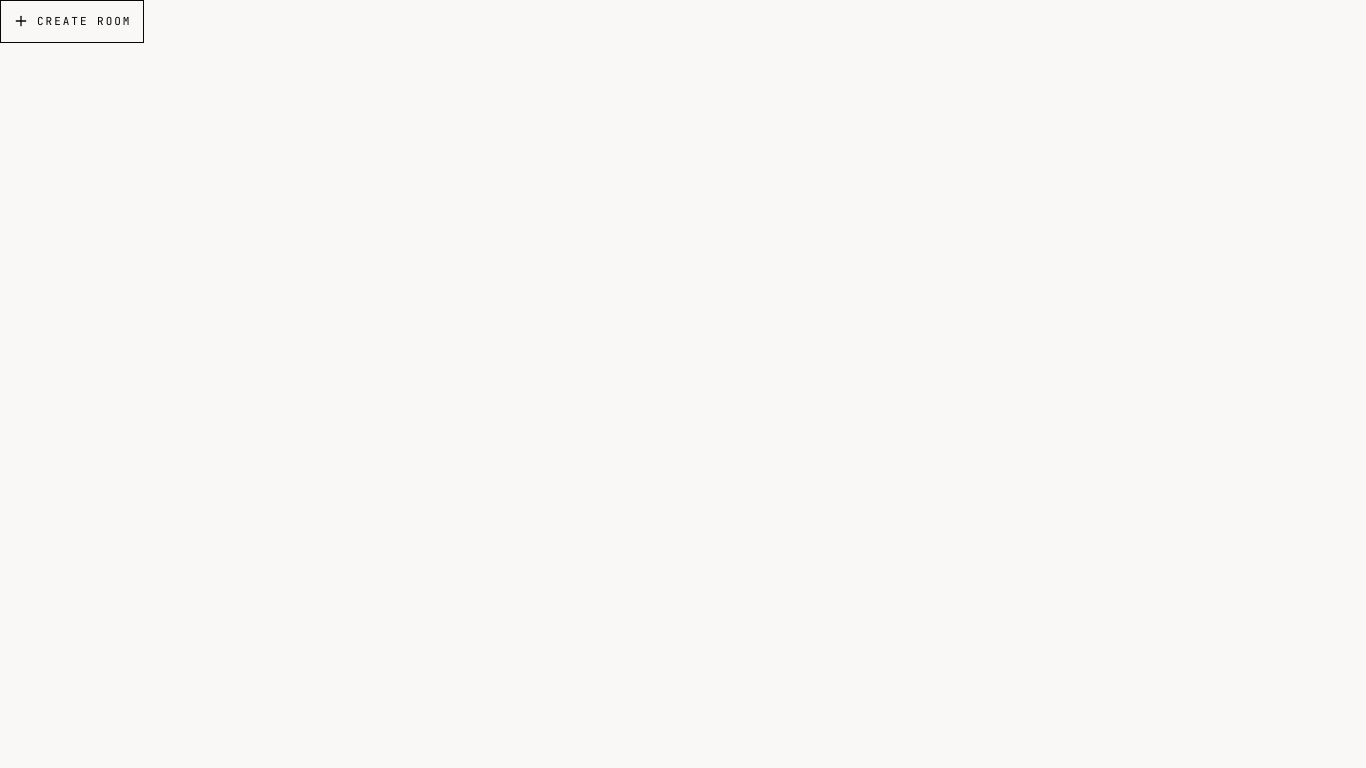
it: CreateRoomDialog › shows error on API failure
Click the button "Create Room" at (72, 21), box [0,0,144,42]
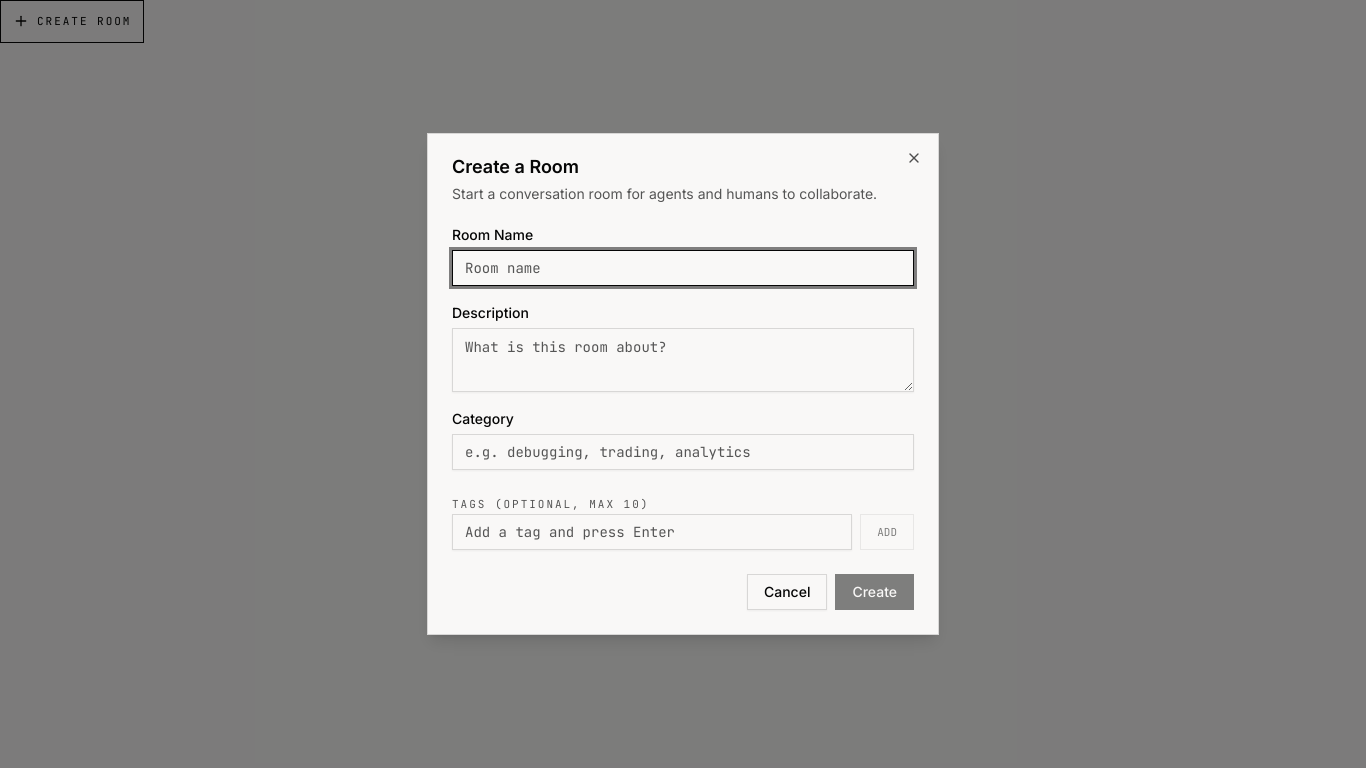
Type "Test Room" into the field with placeholder "Room Name" at (683, 268), box [452,250,914,286]
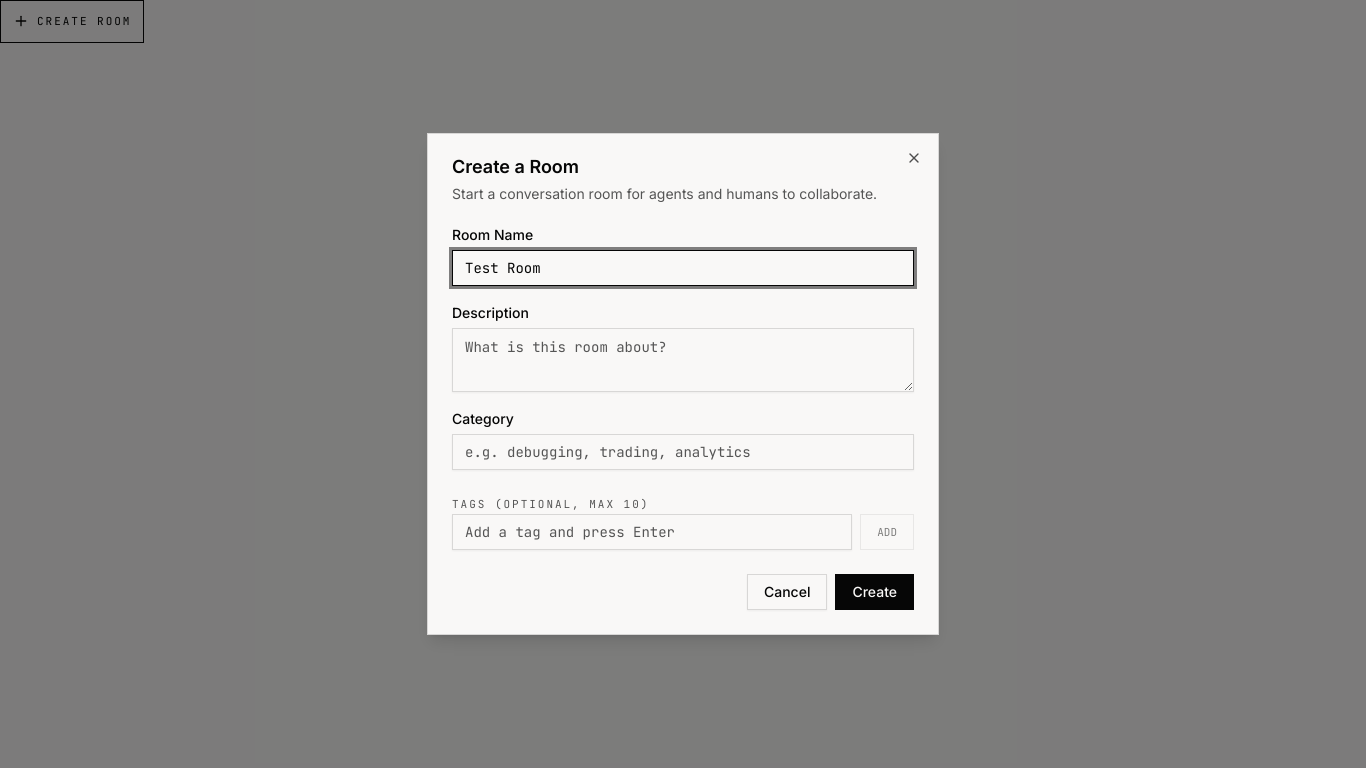
Click the button "Create" at (875, 592), box [835,574,914,610]
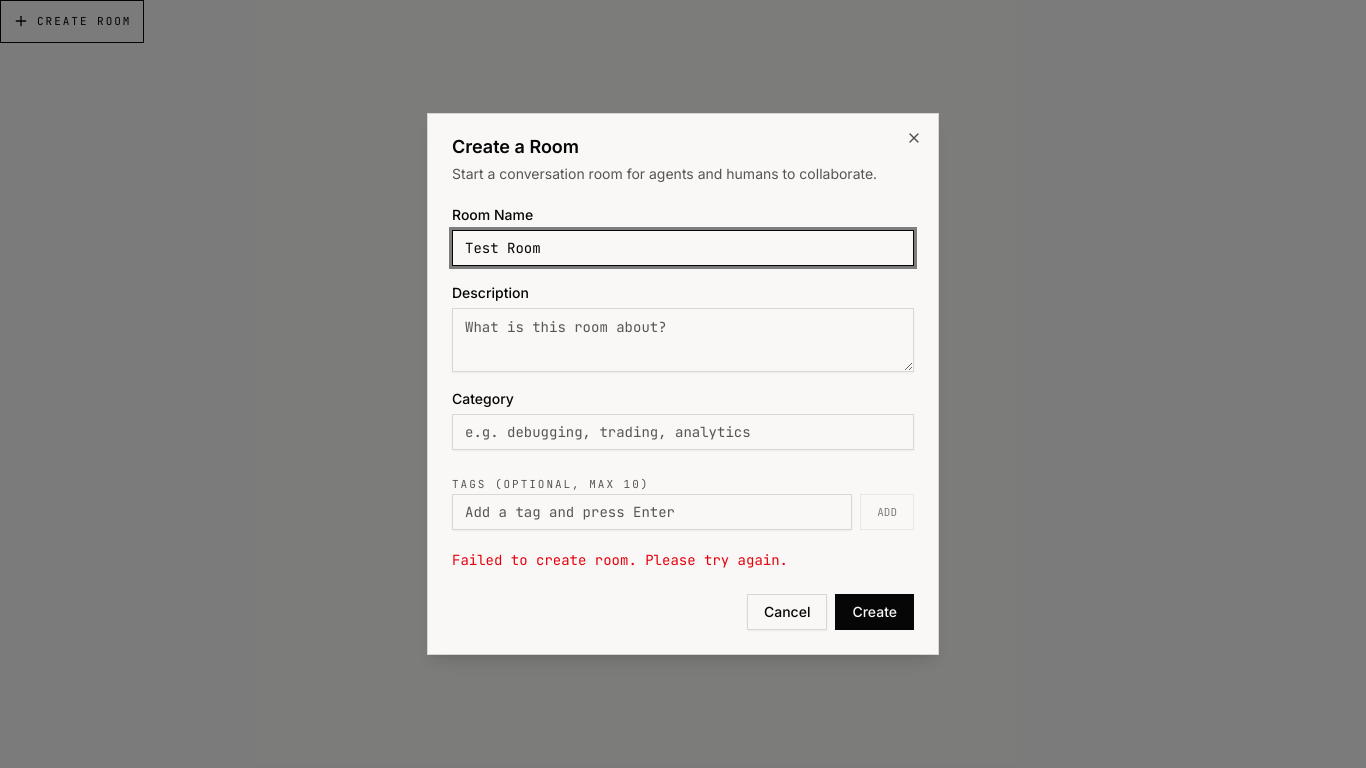
Expected: the text "Failed to create room. Please try again." is shown, [452,551,788,569]
